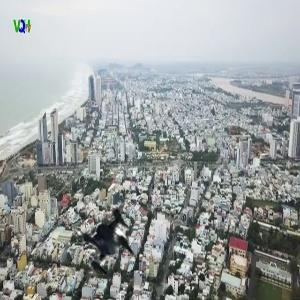drone: (49, 182, 154, 287)
